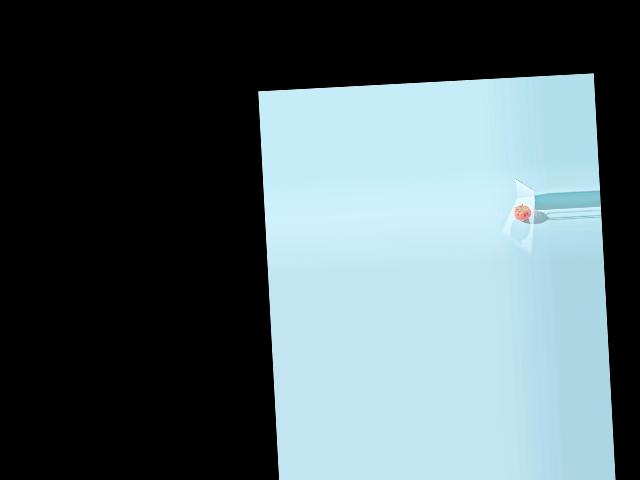tomato: (514, 204, 532, 221)
